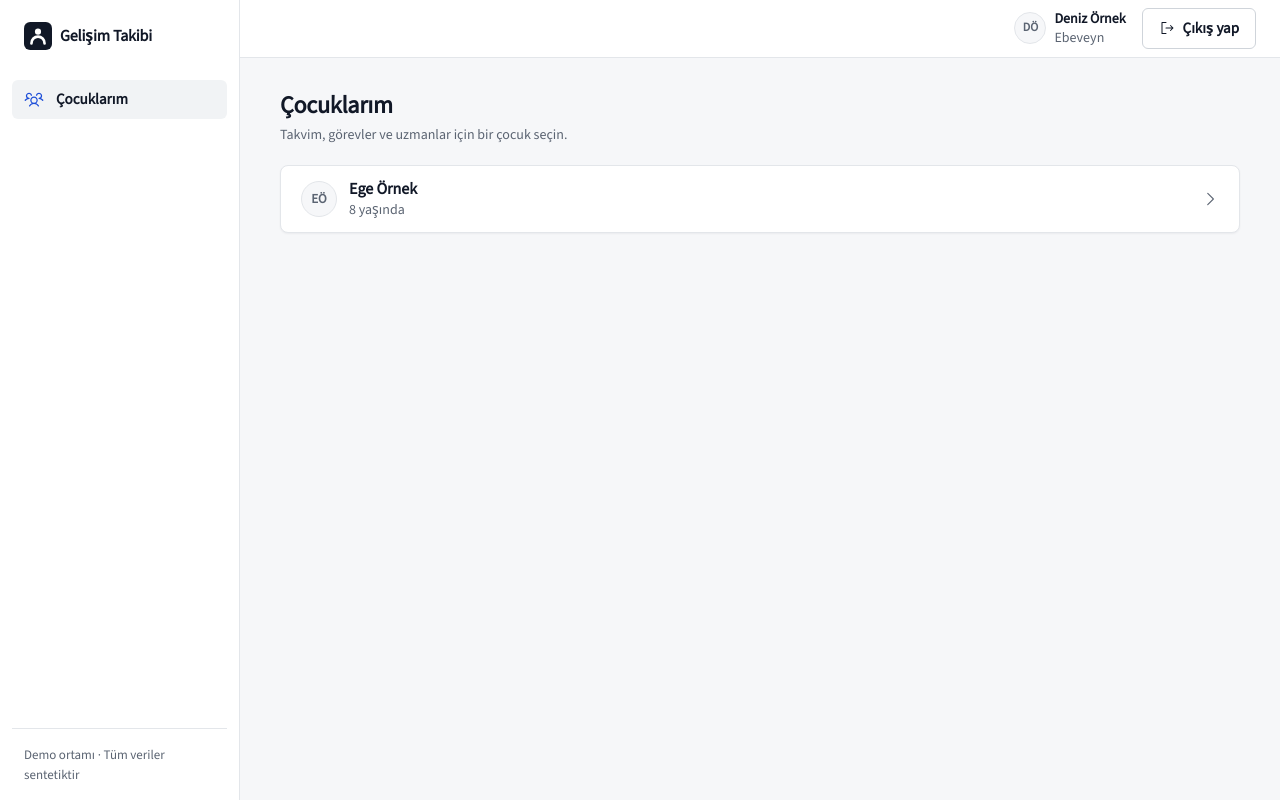
it: role-based screens (FR-M1-03) › opens a child page with its tabs from the list
Click the link "Ege Örnek" at (319, 199), box [281,166,1239,232]
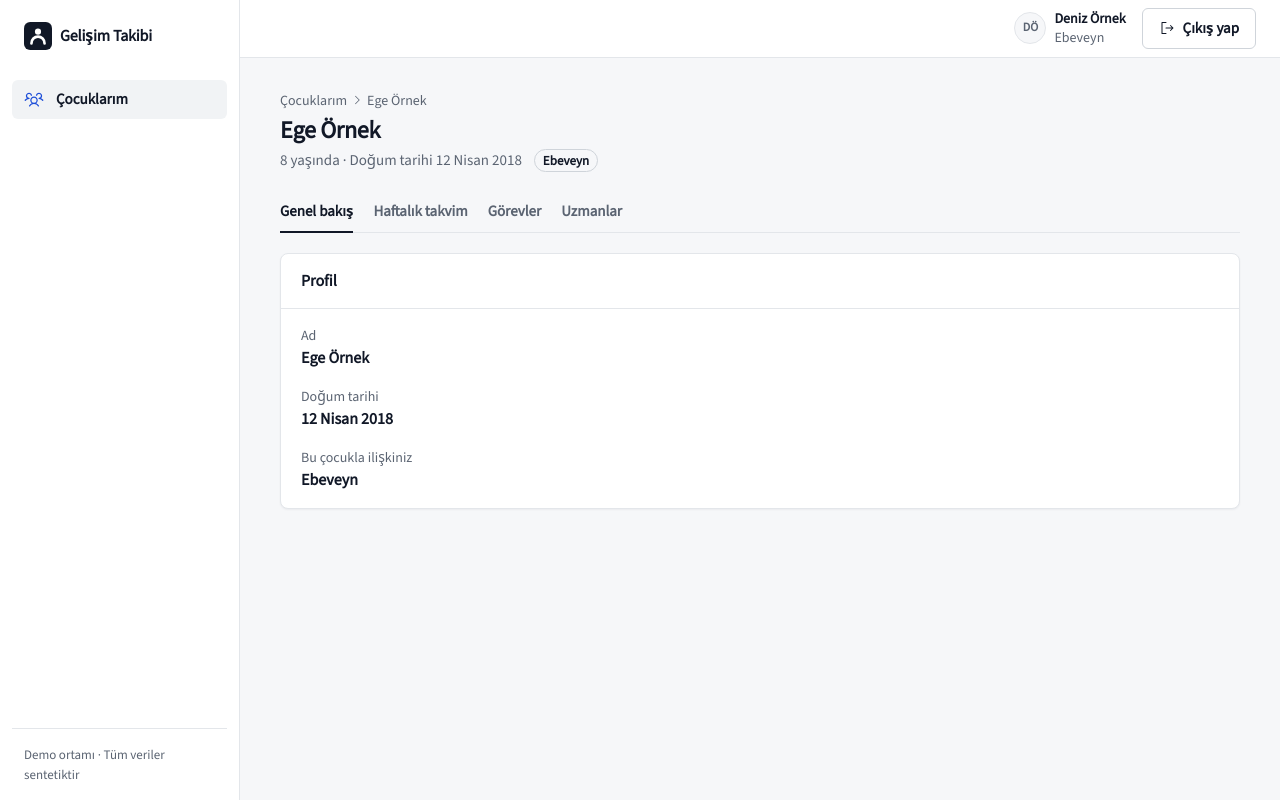
Expected: the heading with test id "child-name" reads "Ege Örnek", [280,114,380,146]
Click the link "Görevler" at (514, 211), box [488,201,541,221]
(page scrolled)
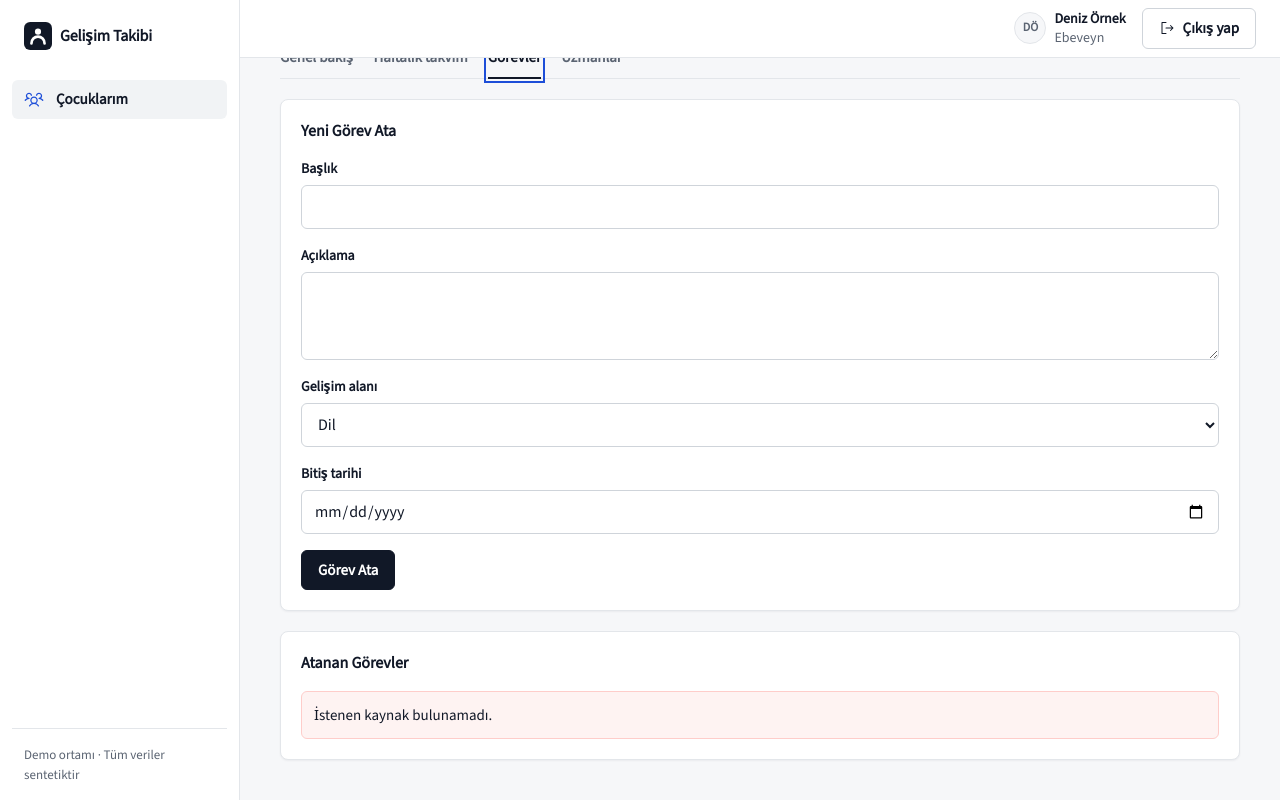
Expected: the heading "Yeni Görev Ata" is shown, [301,120,396,140]
Expected: the heading "Atanan Görevler" is shown, [301,652,408,673]
